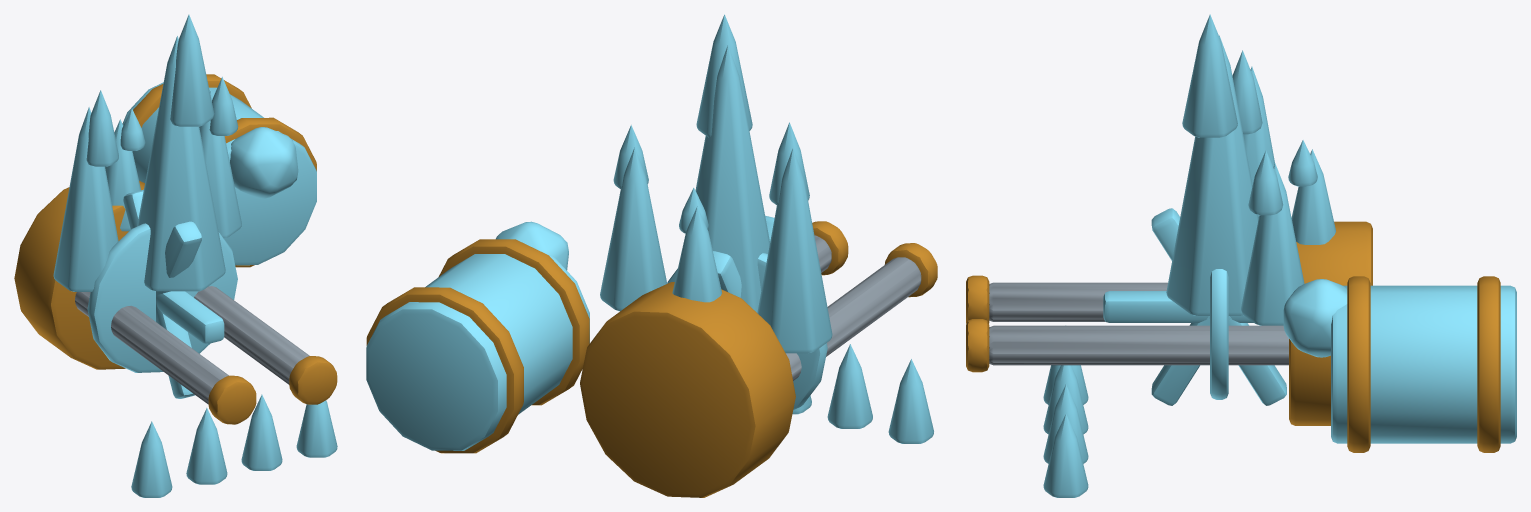
Rendered from GunA2.obj.
The picture shows the model from 3 angles, left to right: view 1: azimuth 30°, elevation 25°; view 2: azimuth 150°, elevation 25°; view 3: azimuth 270°, elevation 25°; orthographic projection. The views are drawn at different scales.
Visible parts, largest first — view 1: GunA2; view 2: GunA2; view 3: GunA2.
Part boxes in pixels (x1,y1,x2,y2): GunA2: (14,14,337,497); GunA2: (366,14,937,497); GunA2: (966,14,1516,497).
Bounding box in the file's own units: 0.8504 × 1.05 × 1.18.
